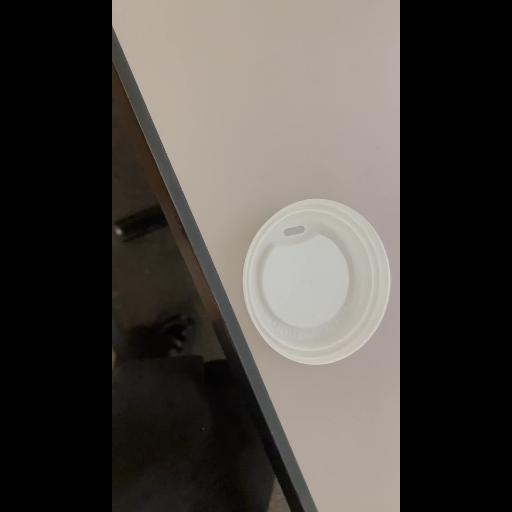lp_cup_lids: (232, 178, 398, 394)
